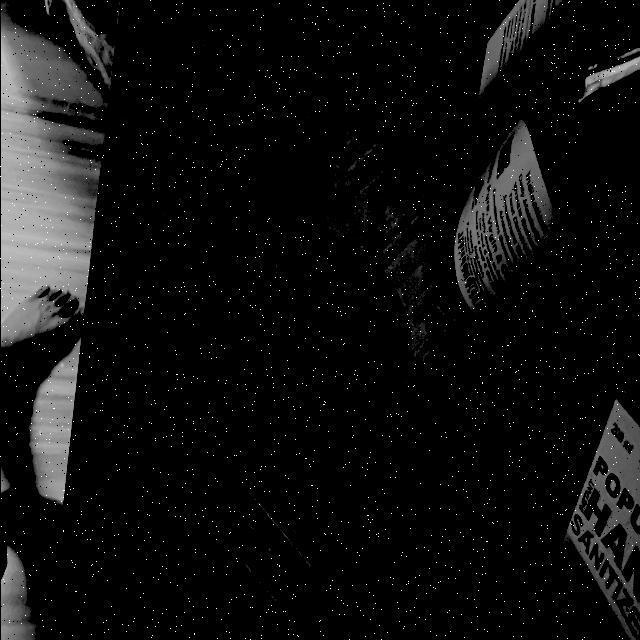egg: (227, 218, 420, 442)
